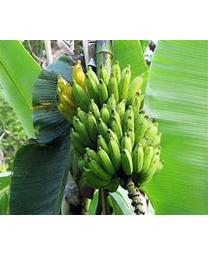banana: (55, 58, 163, 212)
